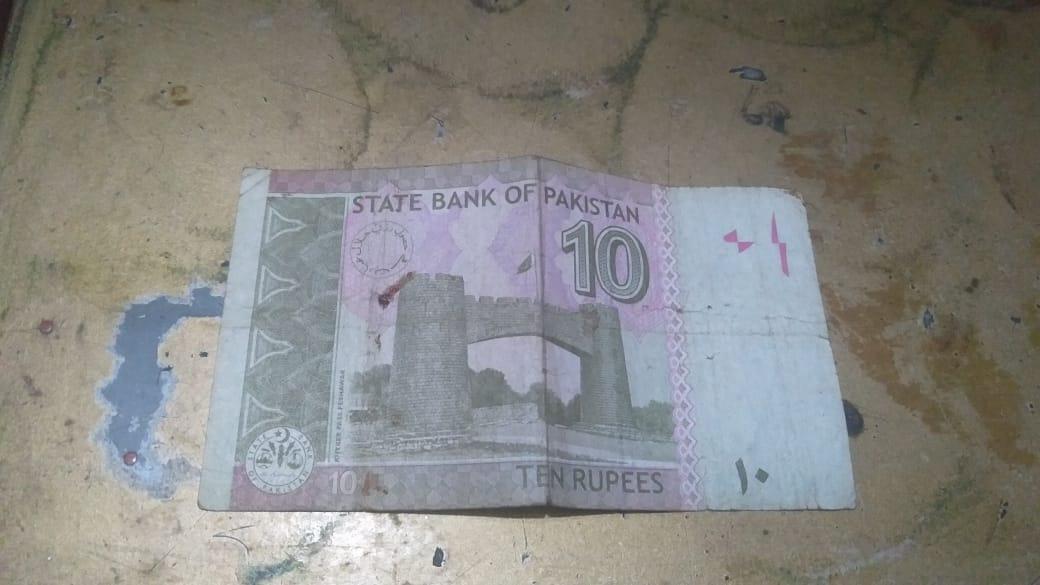10 rupee: (218, 159, 864, 532)
